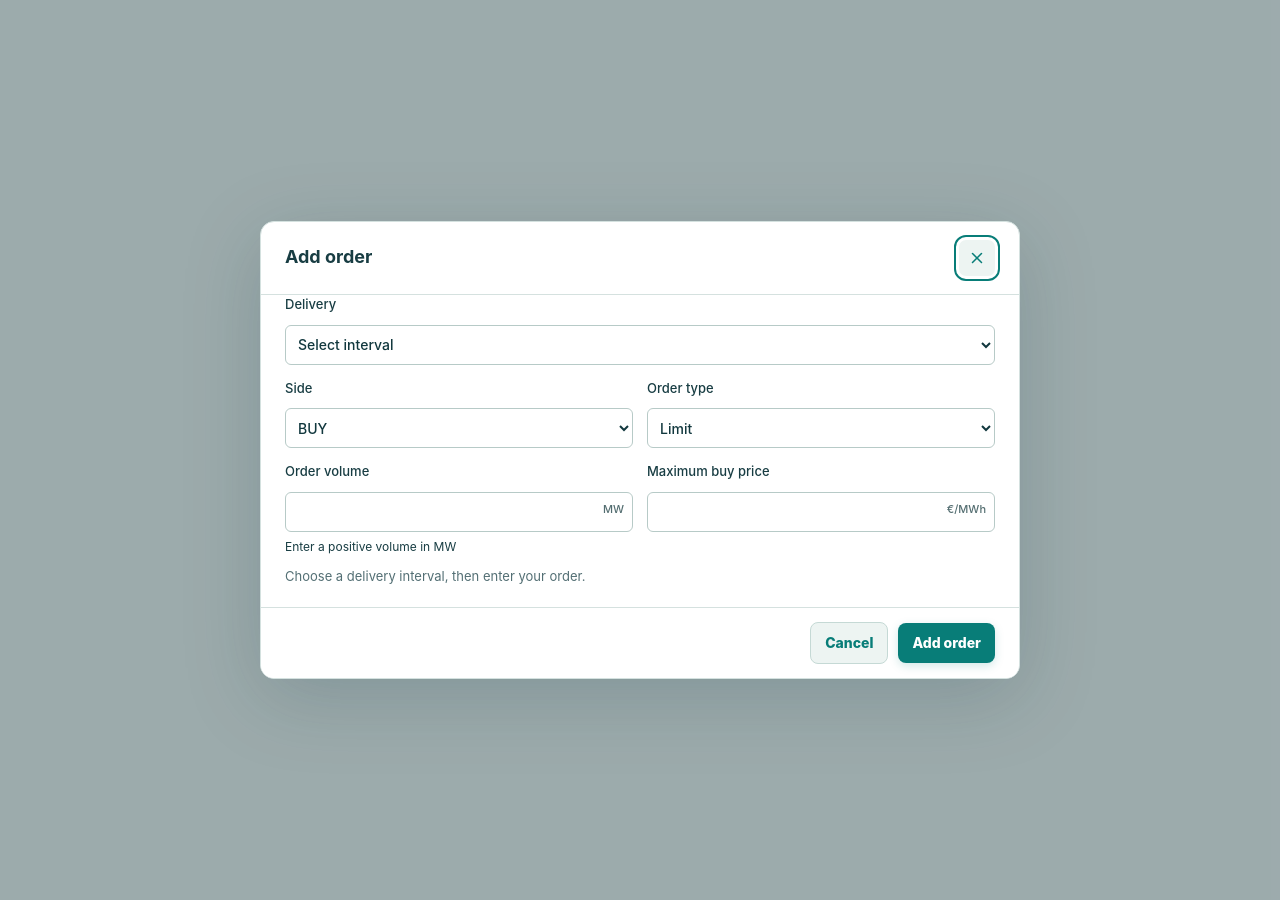
Test: validates an unselected interval and empty fields without adding
What coordinates should you click on to do the following:
click the button "Add order"
I would click on:
 (947, 643)
Its box is x1=898 y1=623 x2=995 y2=663.
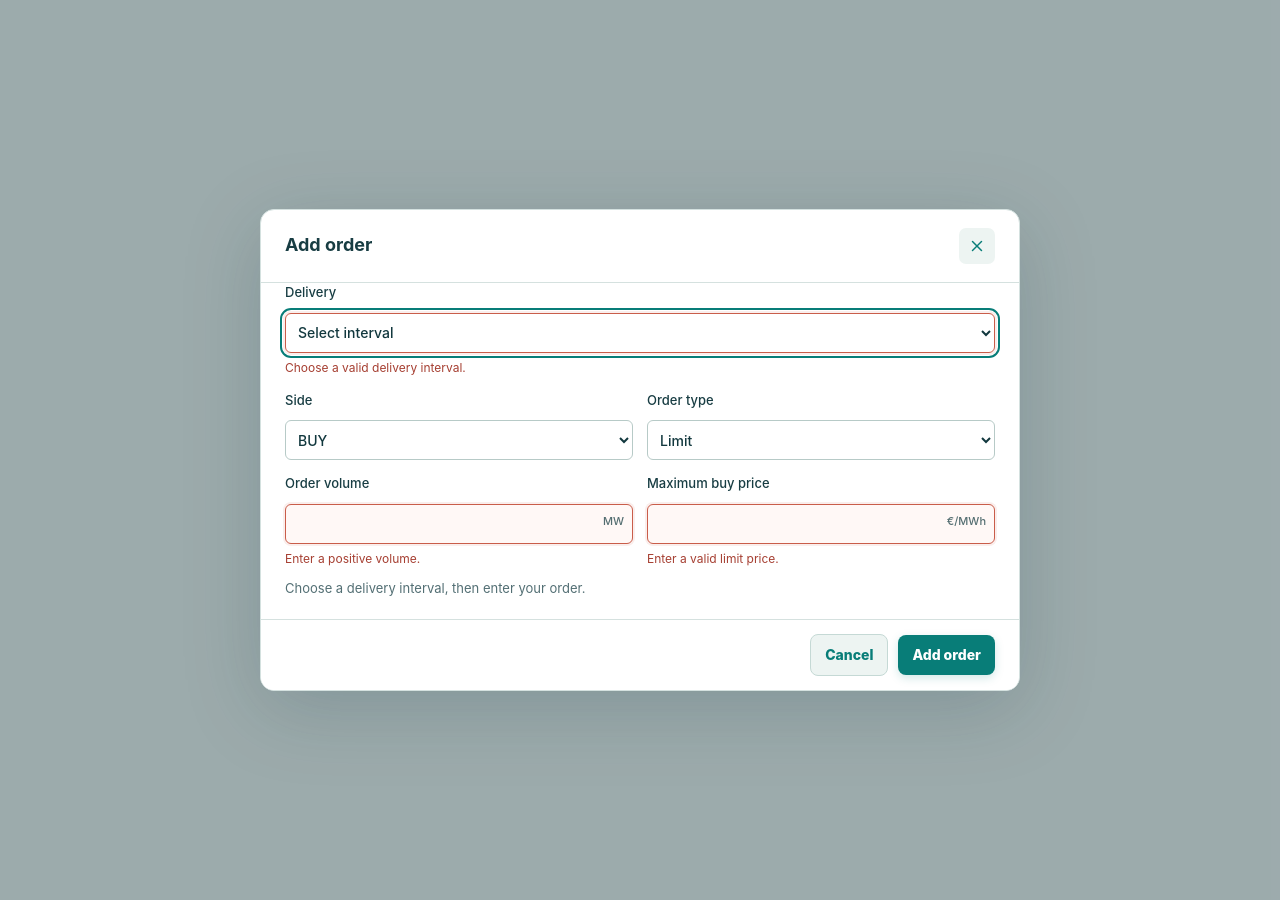
expect the text "Enter a positive volume." is shown: met, box x1=285 y1=551 x2=420 y2=566
expect the text "Choose a valid delivery interval." is shown: met, box x1=285 y1=360 x2=466 y2=374
expect the text "Enter a valid limit price." is shown: met, box x1=647 y1=551 x2=779 y2=566
